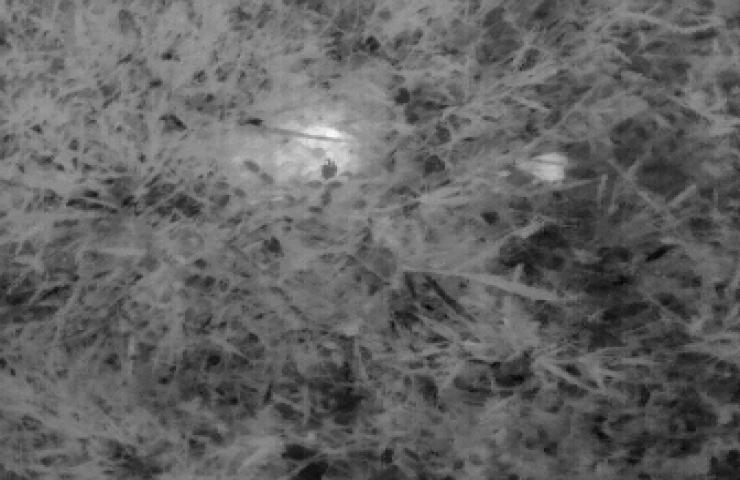landmines: (277, 118, 359, 188)
